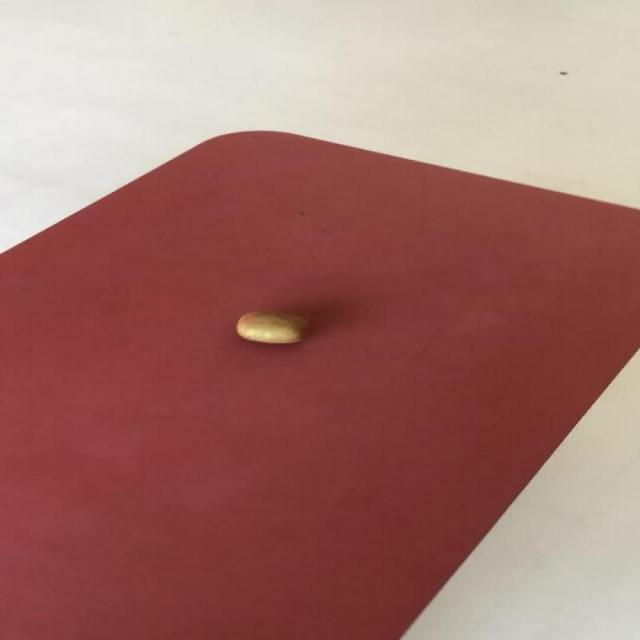Kiwi: (235, 310, 306, 344)
